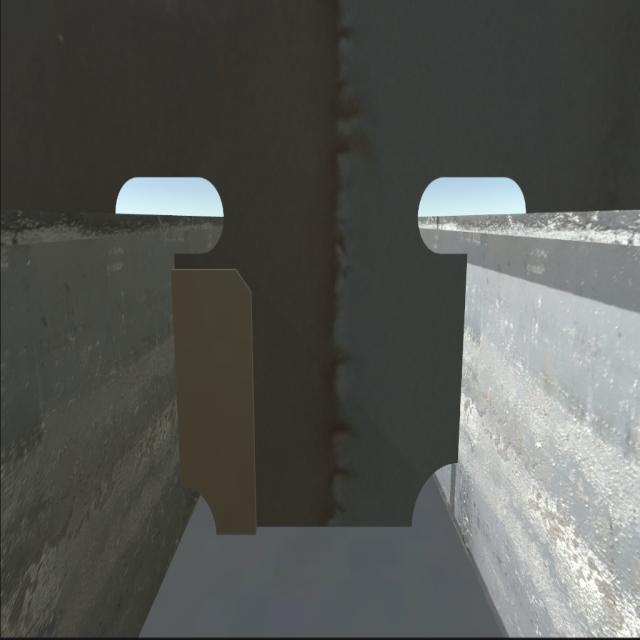fillet_hole: (406, 459, 462, 521), (181, 485, 218, 539)
fillet_yong_jeop_jang: (205, 514, 424, 544)
longi_yong_jeop_jang: (162, 244, 189, 498), (454, 245, 476, 463)
plate_CP03: (170, 262, 260, 537)
